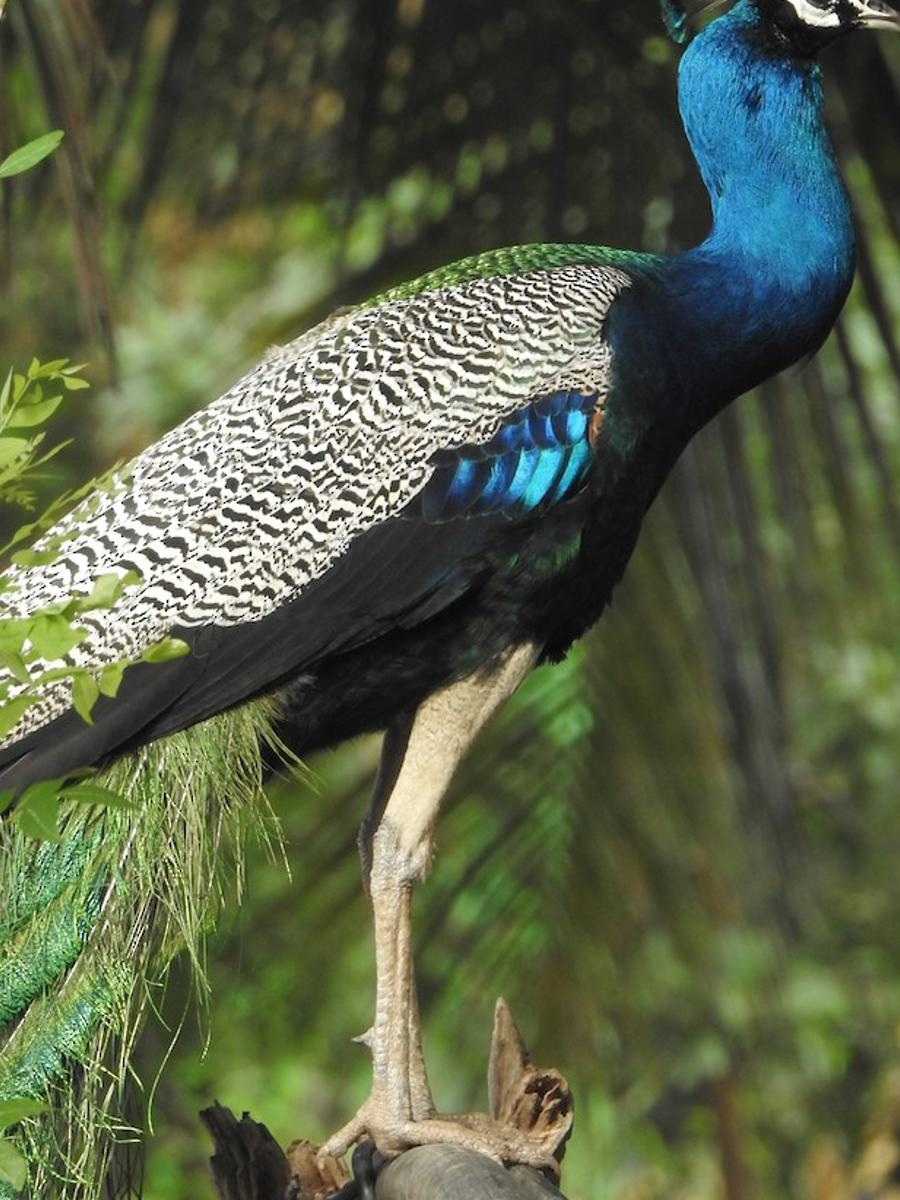peacock: (60, 1, 873, 850)
